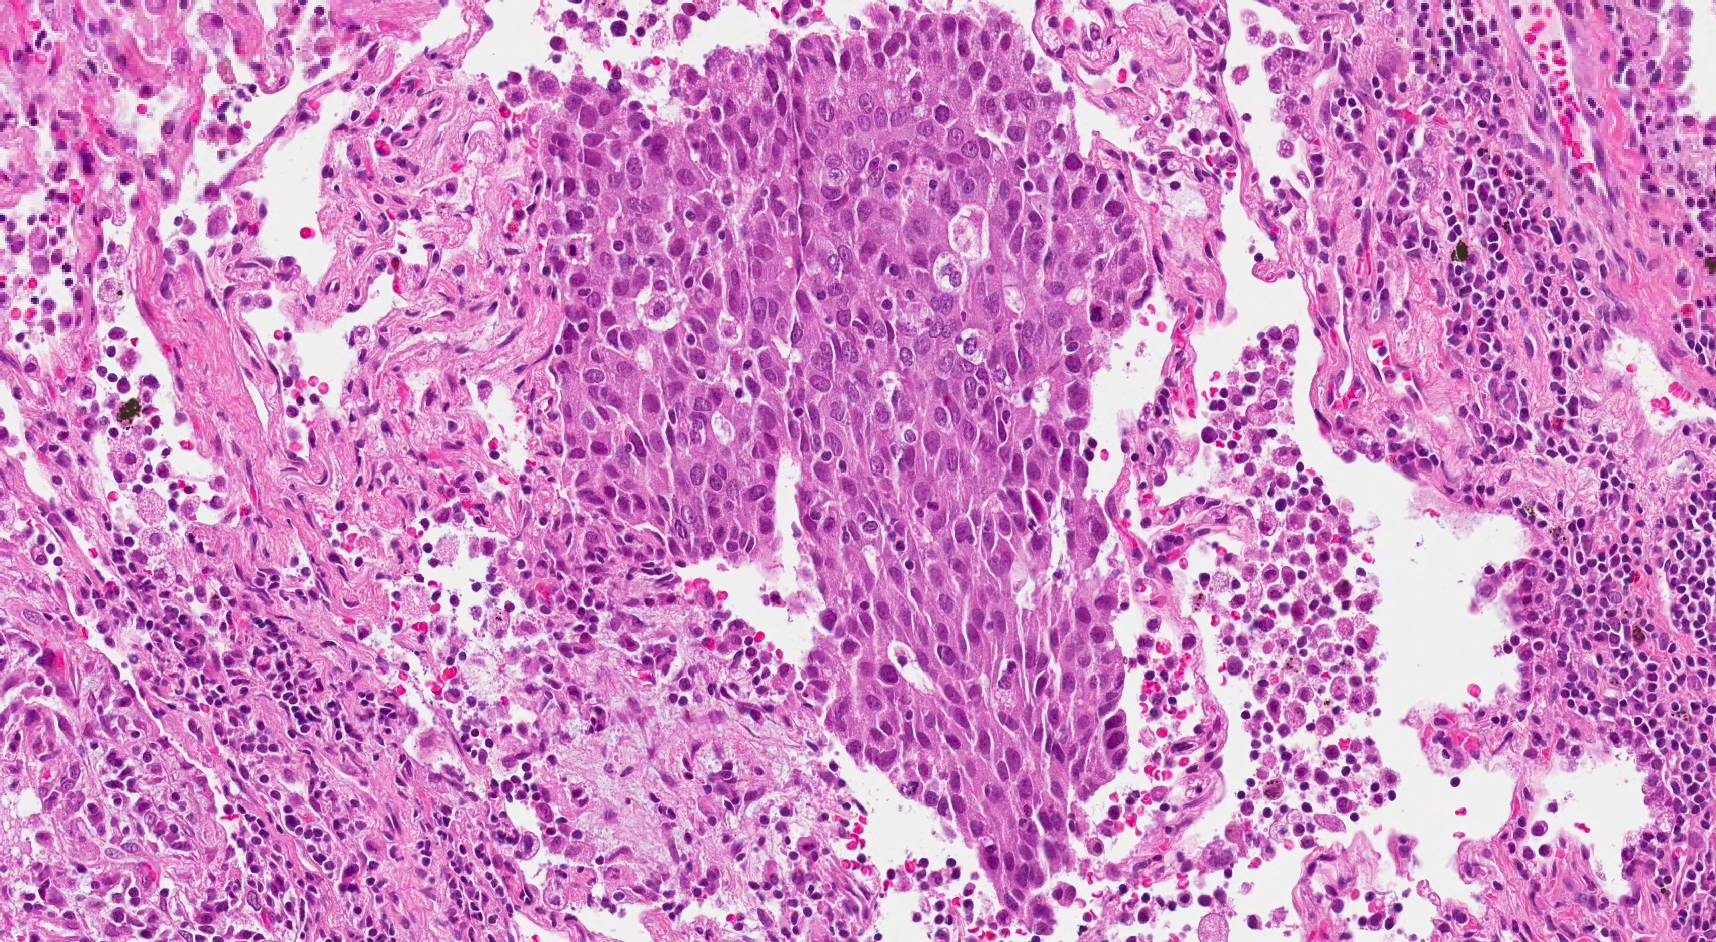stas: (508, 6, 1143, 938)
